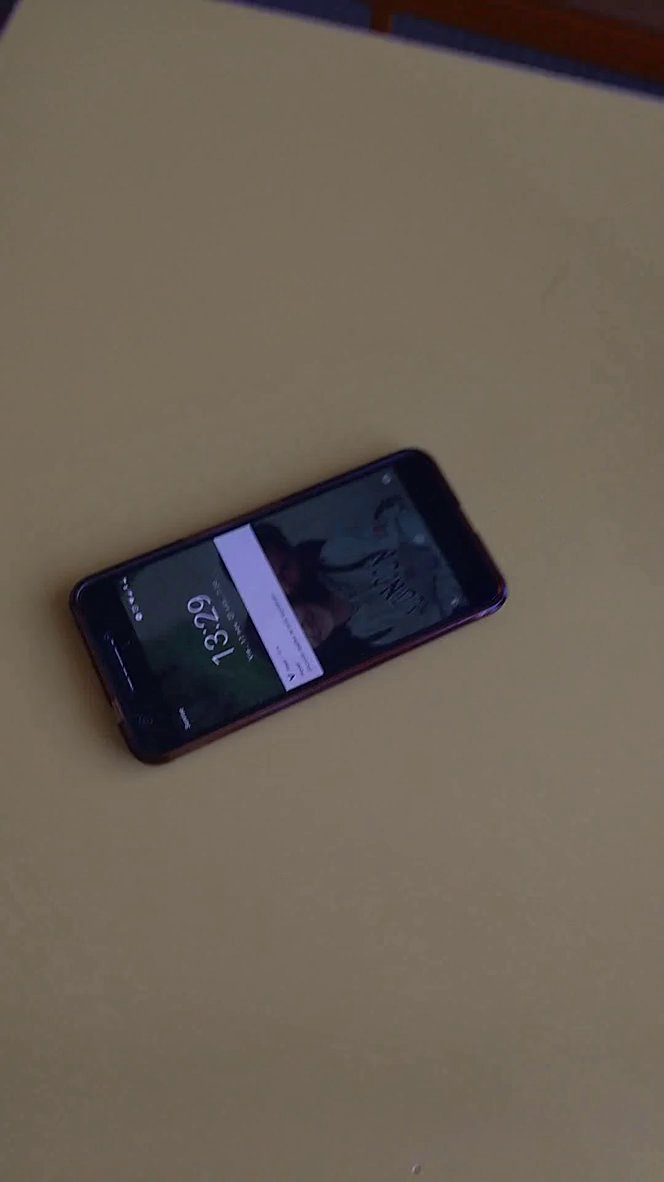phone: (54, 428, 535, 781)
